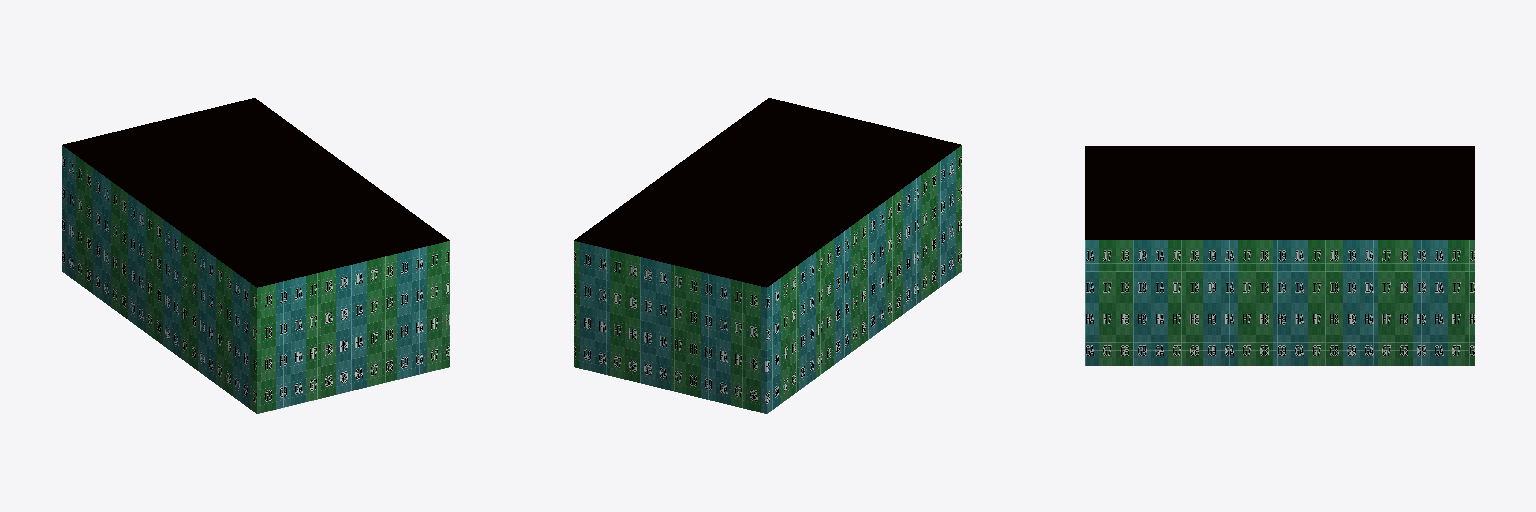
The picture shows the model from 3 angles: view 1: azimuth 30°, elevation 25°; view 2: azimuth 150°, elevation 25°; view 3: azimuth 270°, elevation 25°; orthographic projection.
Visible parts, largest first — view 1: Cube; view 2: Cube; view 3: Cube.
Part boxes in pixels (x1,y1,x2,y2): Cube: (62,98,449,413); Cube: (574,98,961,413); Cube: (1085,146,1474,365).
Size of the model in its own units: 4 by 2.5 by 7.
3 materials, 2 textured.